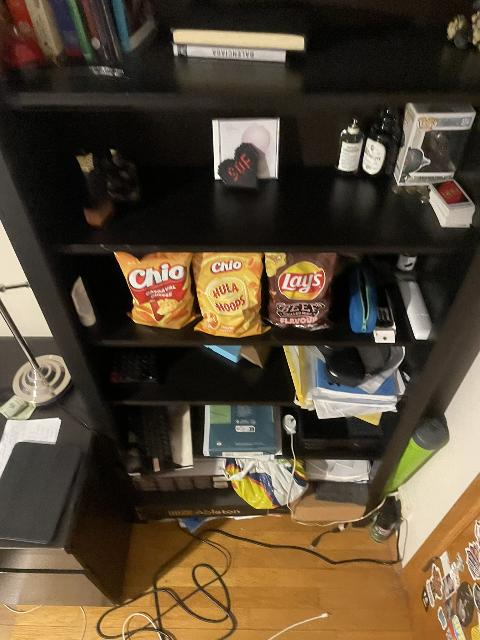Chio Cascaval 125g: (114, 251, 199, 331)
Chio Hula Hoops Cheese 70g: (191, 252, 269, 338)
Lays Beef Grilled Ribs 125g: (269, 252, 340, 332)
